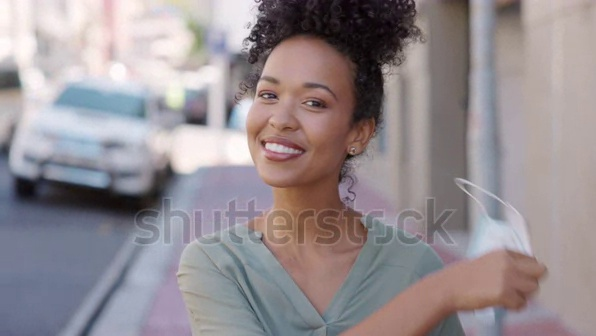No Mask: (227, 125, 345, 190)
